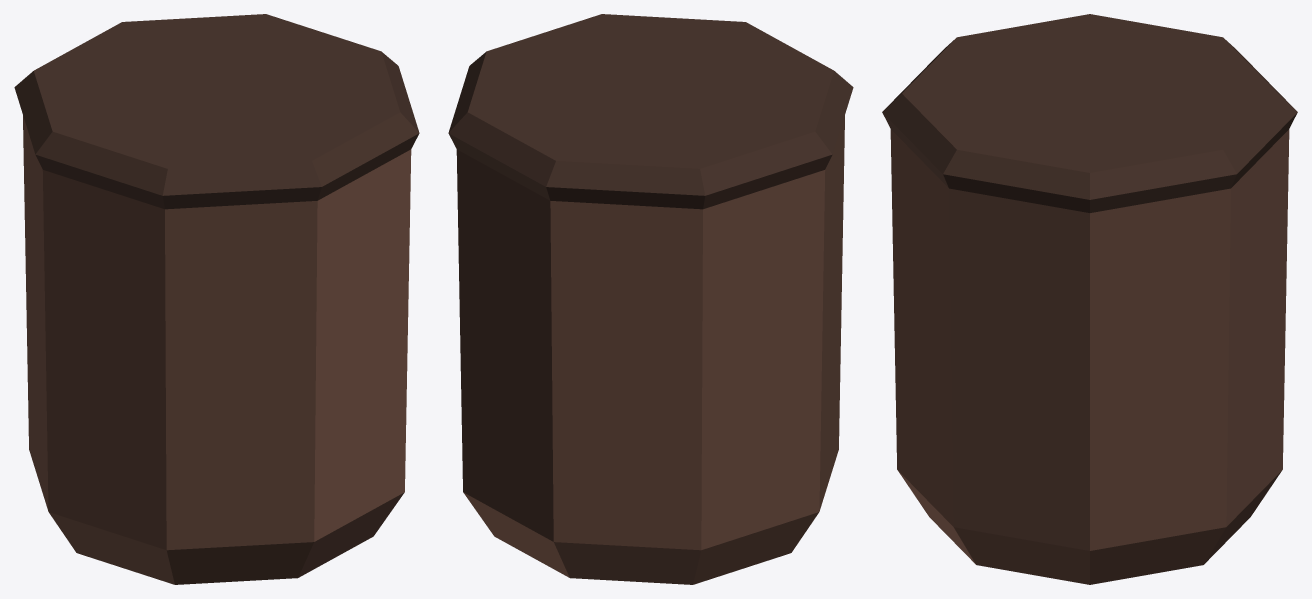
Rendered from Prop_ContainerA.fbx.
3 views of the same model, side by side, from view 1: azimuth 30°, elevation 25°; view 2: azimuth 150°, elevation 25°; view 3: azimuth 270°, elevation 25° (orthographic).
Parts seen in each view (by area): view 1: Prop_ContainerA; view 2: Prop_ContainerA; view 3: Prop_ContainerA.
Part boxes in pixels (box(x1,y1,x2,y2)): Prop_ContainerA: box(14, 14, 419, 584); Prop_ContainerA: box(448, 14, 853, 584); Prop_ContainerA: box(882, 14, 1297, 584).
Size of the model in its own units: 47.9 by 53.85 by 47.9.
